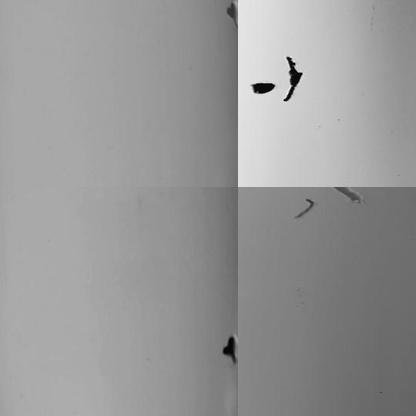fengxi: (294, 197, 315, 221)
kongdong: (282, 52, 302, 105), (217, 334, 238, 362), (249, 77, 276, 96), (222, 4, 239, 25)
sunshang: (334, 186, 360, 204)
